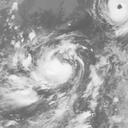cyclone: (32, 53, 73, 86), (105, 0, 127, 26)
